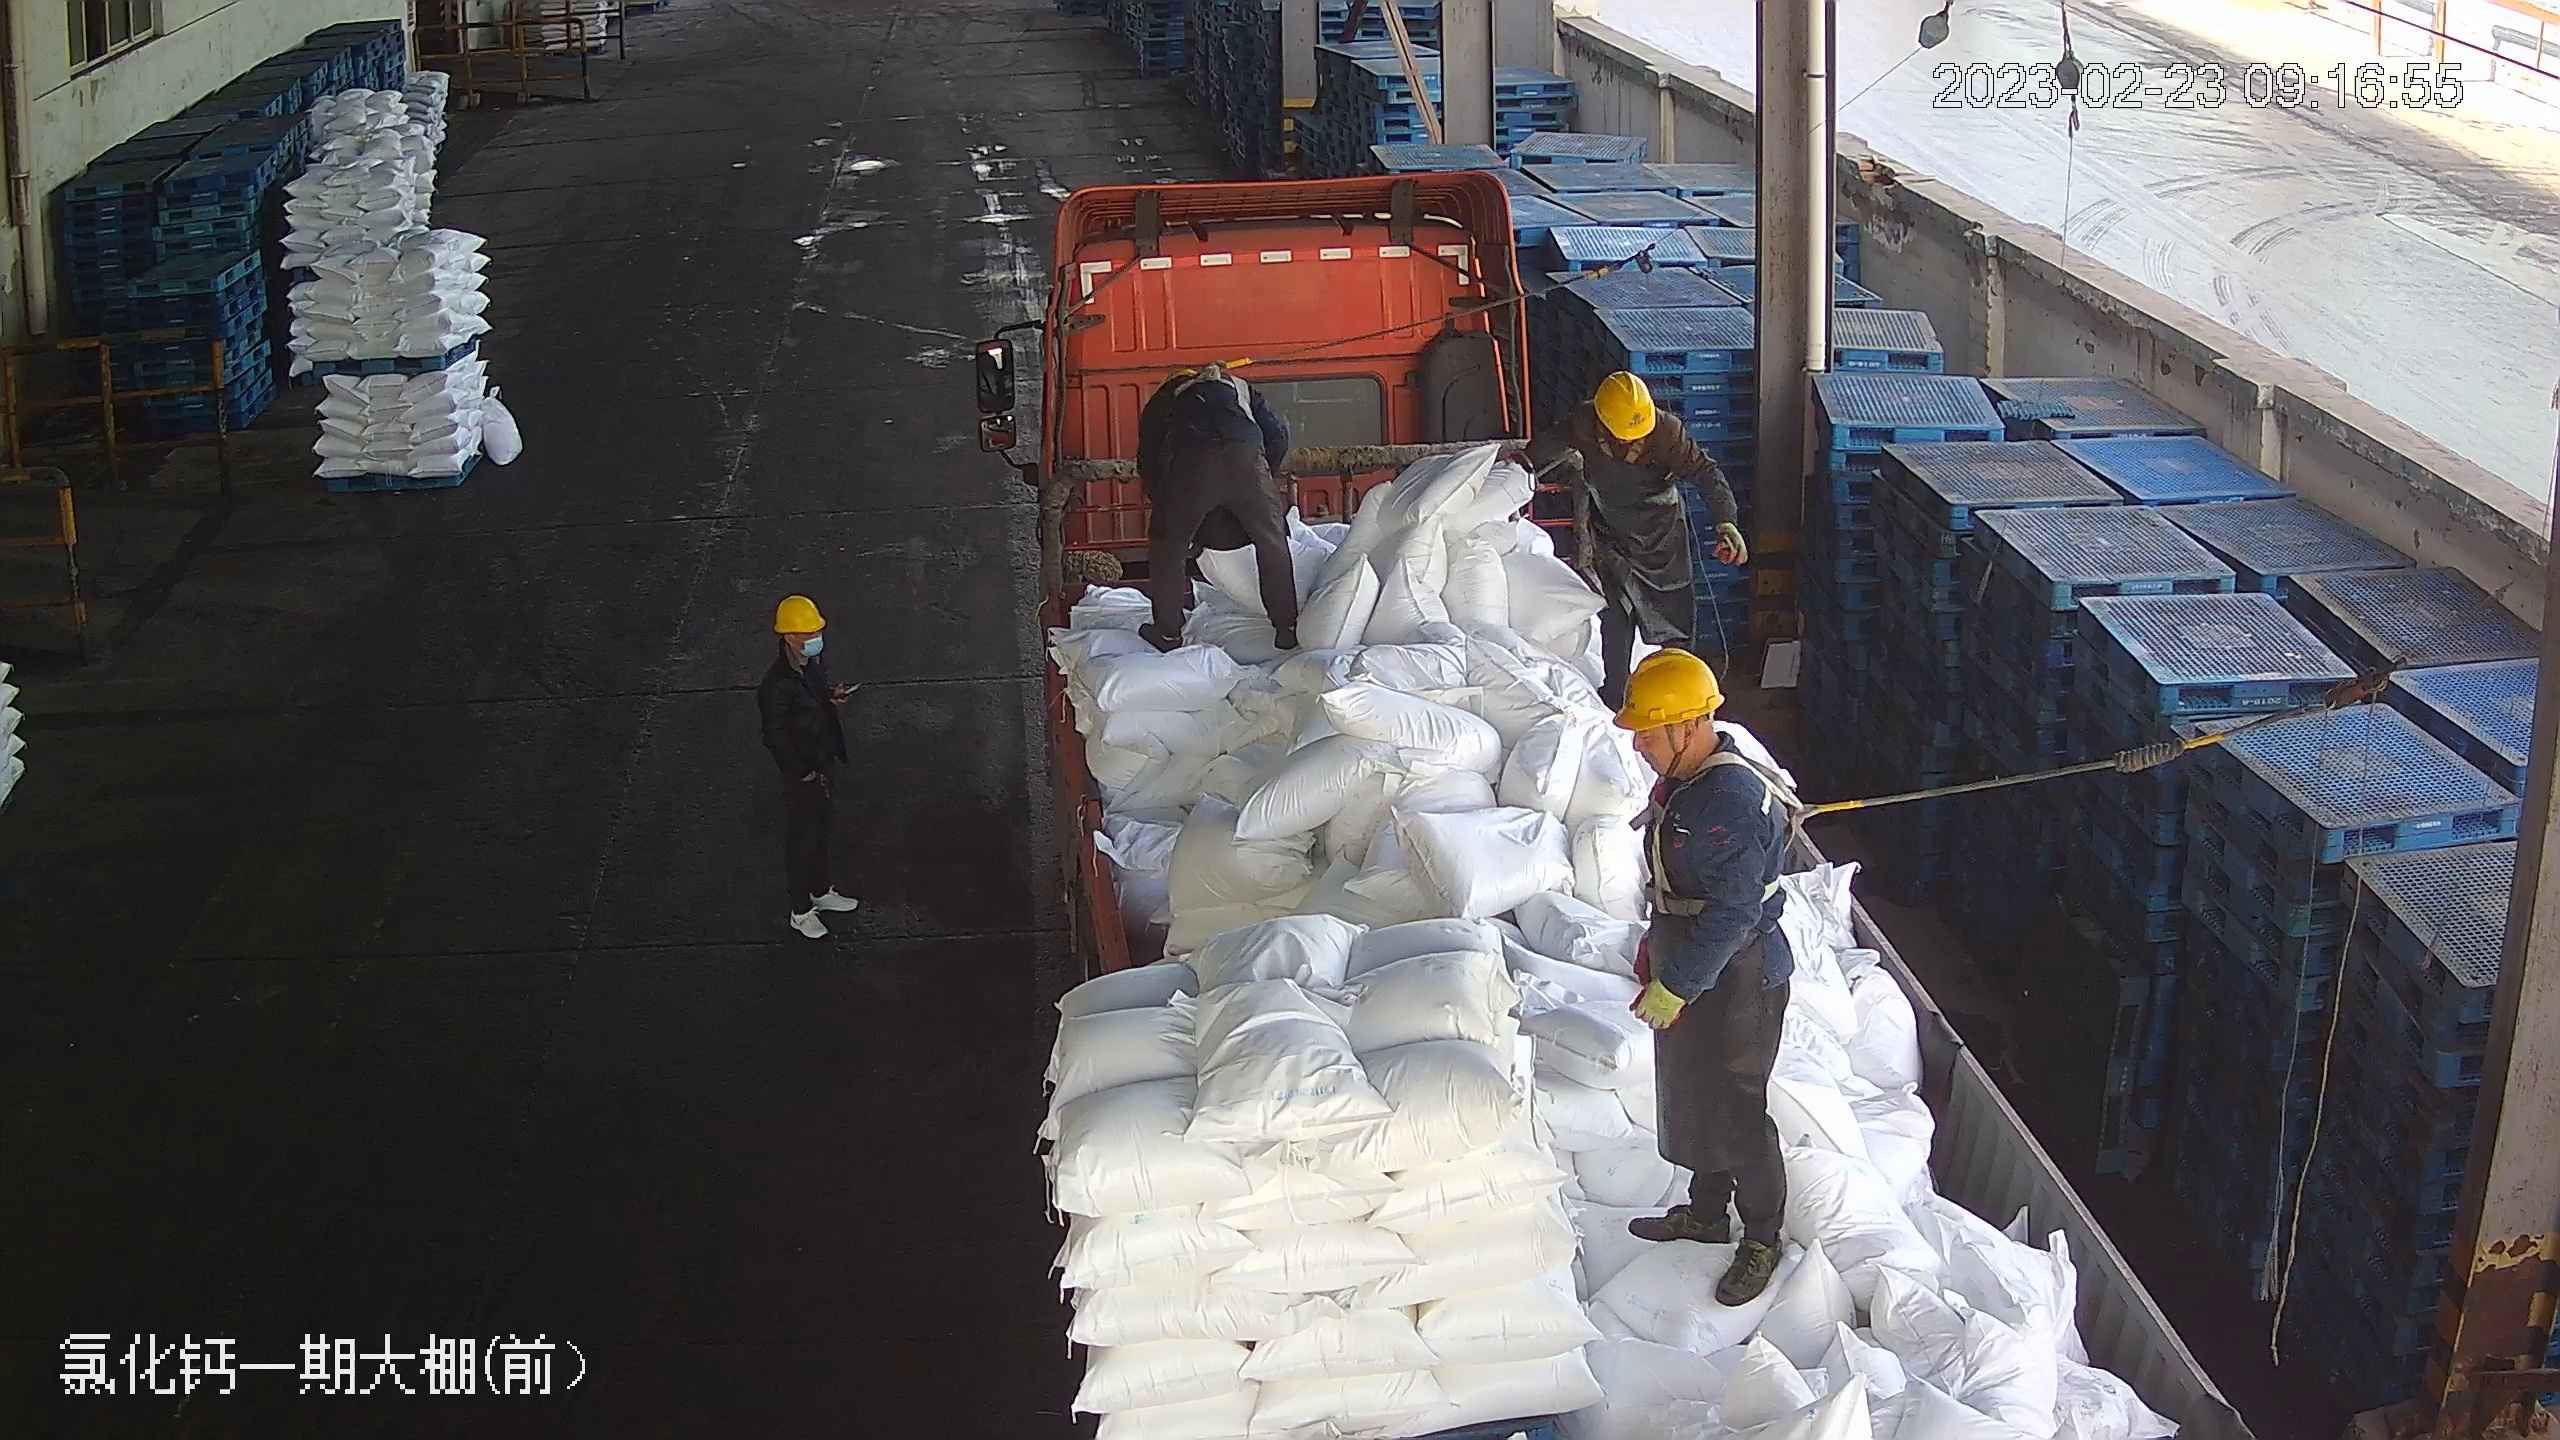belt: (1664, 760, 1861, 917), (1171, 357, 1253, 414), (1588, 423, 1660, 469)
head: (1613, 648, 1781, 848), (756, 593, 837, 697)
helmet: (1613, 644, 1726, 729), (1591, 369, 1658, 438), (770, 592, 827, 633)
people: (1613, 647, 1808, 1315), (1546, 369, 1746, 702), (1123, 359, 1308, 663), (751, 588, 874, 943)
truck: (976, 157, 2281, 1440)
